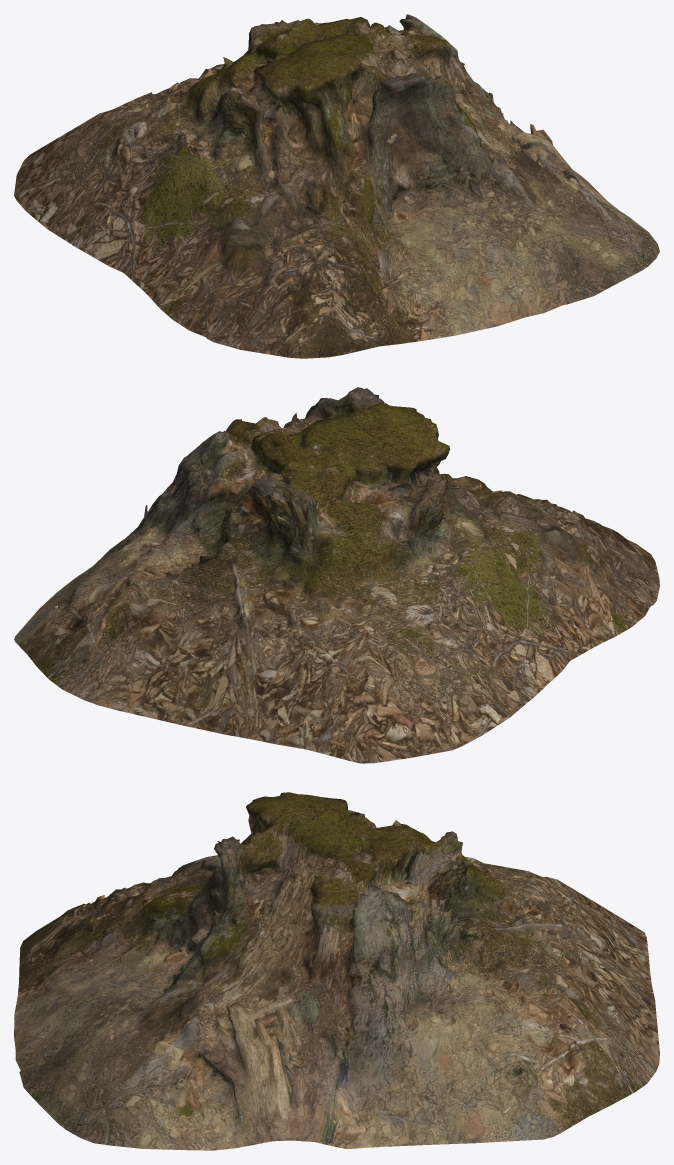
Rendered from tree_stump_01.glb.
The picture shows the model from 3 angles, top to bottom: view 1: azimuth 30°, elevation 25°; view 2: azimuth 150°, elevation 25°; view 3: azimuth 270°, elevation 25°; orthographic projection. The views are drawn at different scales.
Parts seen in each view (by area): view 1: tree_stump_01; view 2: tree_stump_01; view 3: tree_stump_01.
Boxes of the visible parts, box(x1,y1,x2,y2) form: tree_stump_01: box(14, 14, 659, 358); tree_stump_01: box(14, 387, 659, 763); tree_stump_01: box(14, 792, 659, 1150).
Size of the model in its own units: 1.43 by 0.5725 by 1.59.
Materials: 1 (1 with a texture image).
